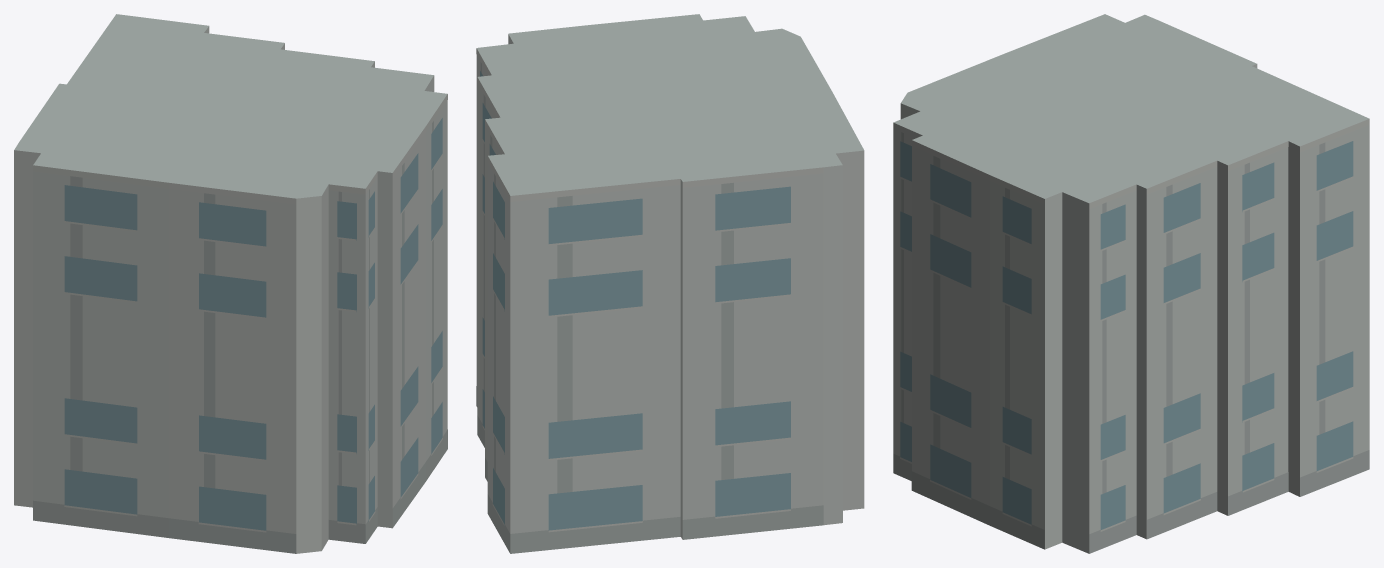
Rendered from survey-upis-32489466.glb.
3 views of the same model, side by side, from view 1: azimuth 30°, elevation 25°; view 2: azimuth 150°, elevation 25°; view 3: azimuth 270°, elevation 25° (orthographic). The views are drawn at different scales.
Visible parts, largest first — view 1: survey-upis-32489466.tmp; view 2: survey-upis-32489466.tmp; view 3: survey-upis-32489466.tmp.
Boxes of the visible parts, x1=… form: survey-upis-32489466.tmp: x1=14, y1=14, x2=447, y2=553; survey-upis-32489466.tmp: x1=476, y1=14, x2=864, y2=553; survey-upis-32489466.tmp: x1=893, y1=14, x2=1369, y2=553.
Size of the model in its own units: 16.57 by 14.3 by 17.62.
